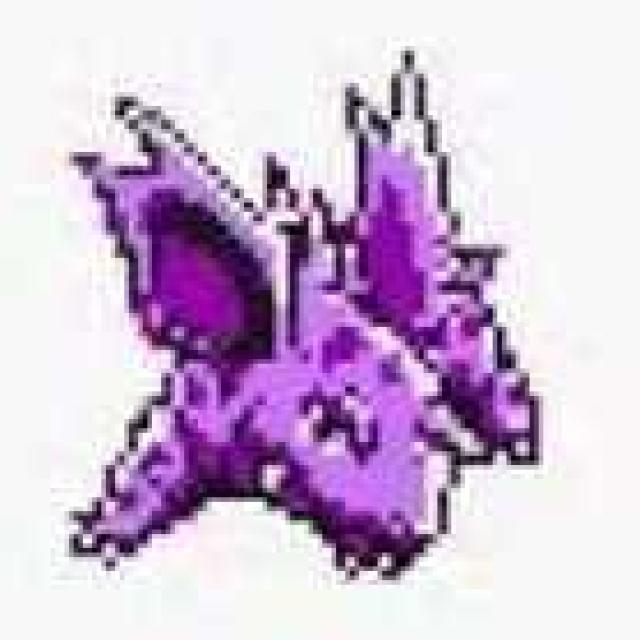Nidorino: (67, 96, 546, 575)
